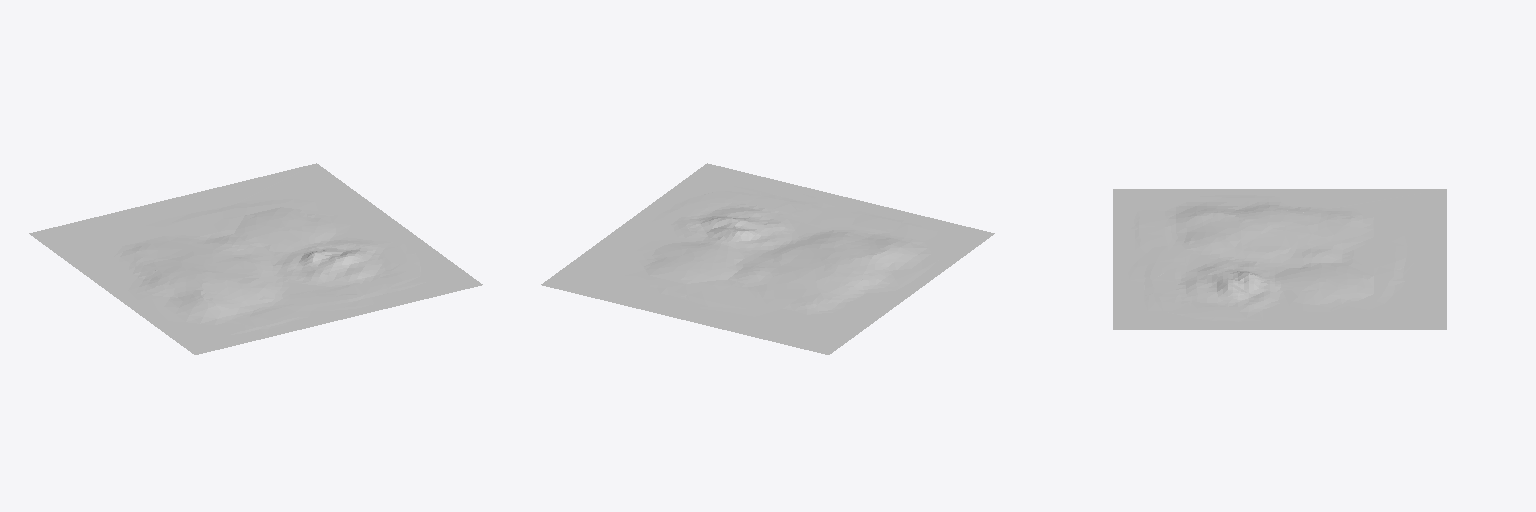
File: PlainTile0040.obj
3 views of the same model, side by side, from view 1: azimuth 30°, elevation 25°; view 2: azimuth 150°, elevation 25°; view 3: azimuth 270°, elevation 25° (orthographic).
Visible parts, largest first — view 1: Tile; view 2: Tile; view 3: Tile.
Boxes of the visible parts, x1,y1,x2,y2 form: Tile: [29, 163, 482, 354]; Tile: [541, 163, 994, 354]; Tile: [1113, 189, 1446, 329].
Size of the model in its own units: 250 by 5.55 by 250.